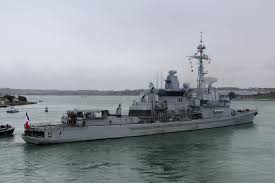tau_muctieu: (26, 57, 257, 137)
